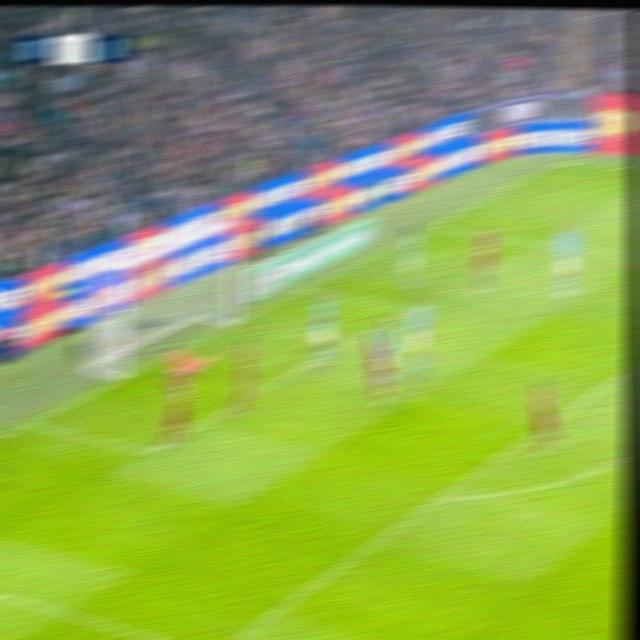bigarea_top_outter: (418, 219, 439, 232)
bottom_arc_area_intersection: (427, 485, 450, 508)
corner: (554, 153, 575, 163)
smallarea_bottom_inner: (133, 442, 157, 463)
smallarea_bottom_outter: (17, 411, 42, 432)
smallarea_top_inner: (395, 303, 414, 316)
smallarea_top_outter: (291, 280, 314, 295)
